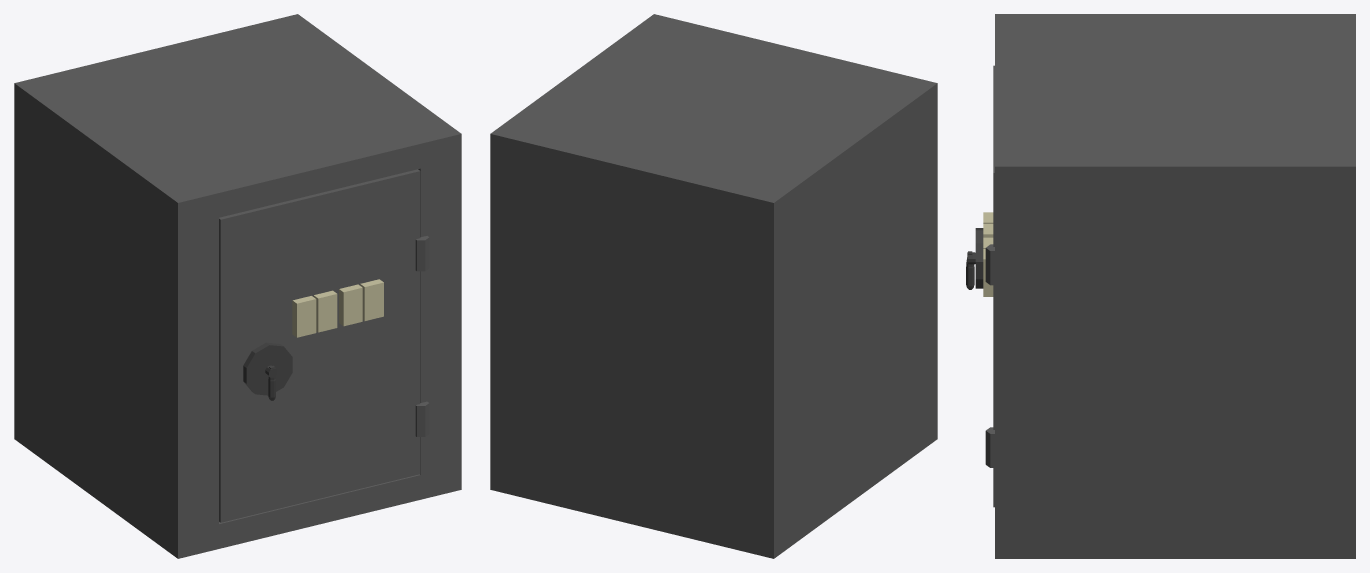
The model's file is Seif.fbx.
The picture shows the model from 3 angles, left to right: view 1: azimuth 30°, elevation 25°; view 2: azimuth 150°, elevation 25°; view 3: azimuth 270°, elevation 25°; orthographic projection. The views are drawn at different scales.
Visible parts, largest first — view 1: Cylinder.002; view 2: Cylinder.002; view 3: Cylinder.002.
Boxes of the visible parts, x1=… form: Cylinder.002: x1=14, y1=14, x2=461, y2=558; Cylinder.002: x1=490, y1=14, x2=937, y2=558; Cylinder.002: x1=966, y1=14, x2=1355, y2=558.
Size of the model in its own units: 168 by 201 by 181.
